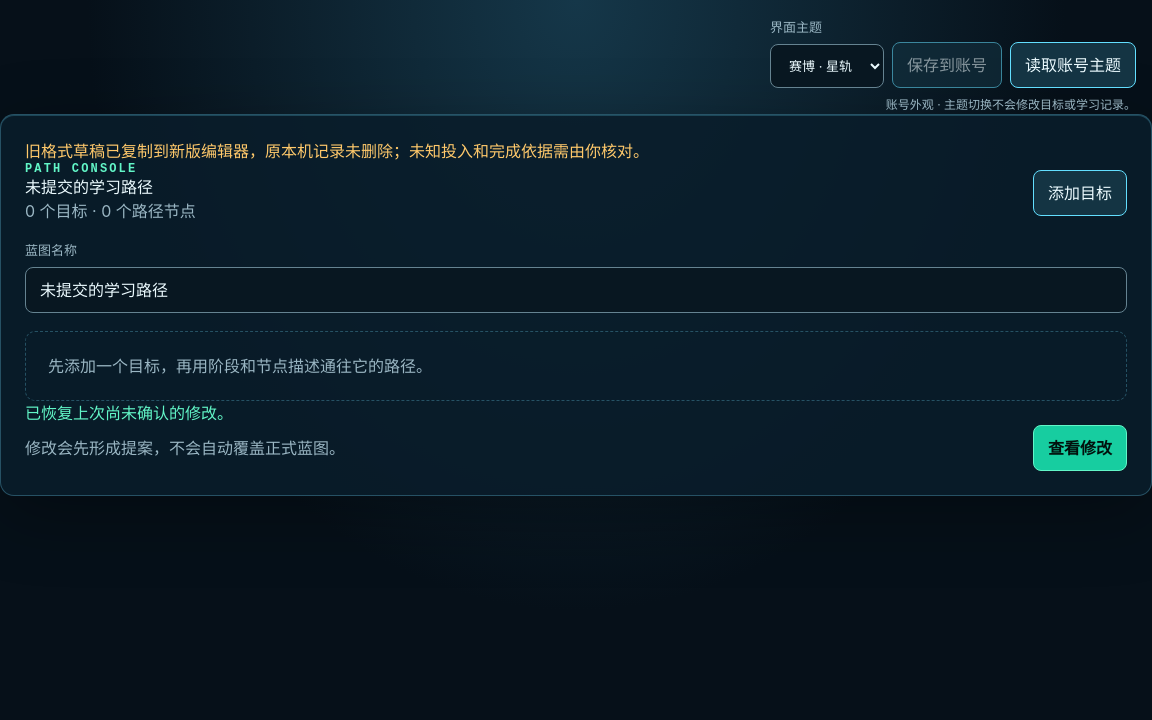
a failed save keeps the preview and editor recoverable without claiming synchronization
Select "山水 · 行旅" in the dropdown labelled "界面主题" at (827, 66), box [770,44,884,88]
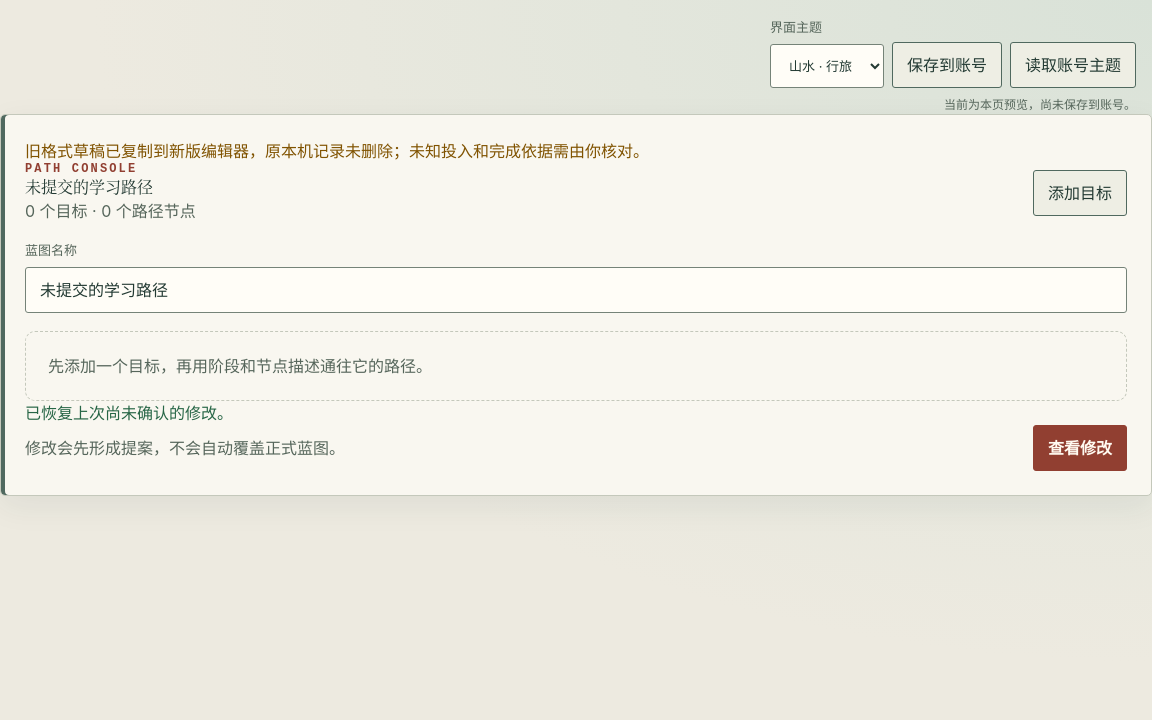
Click the button "保存到账号" at (947, 64), box [892,42,1002,88]
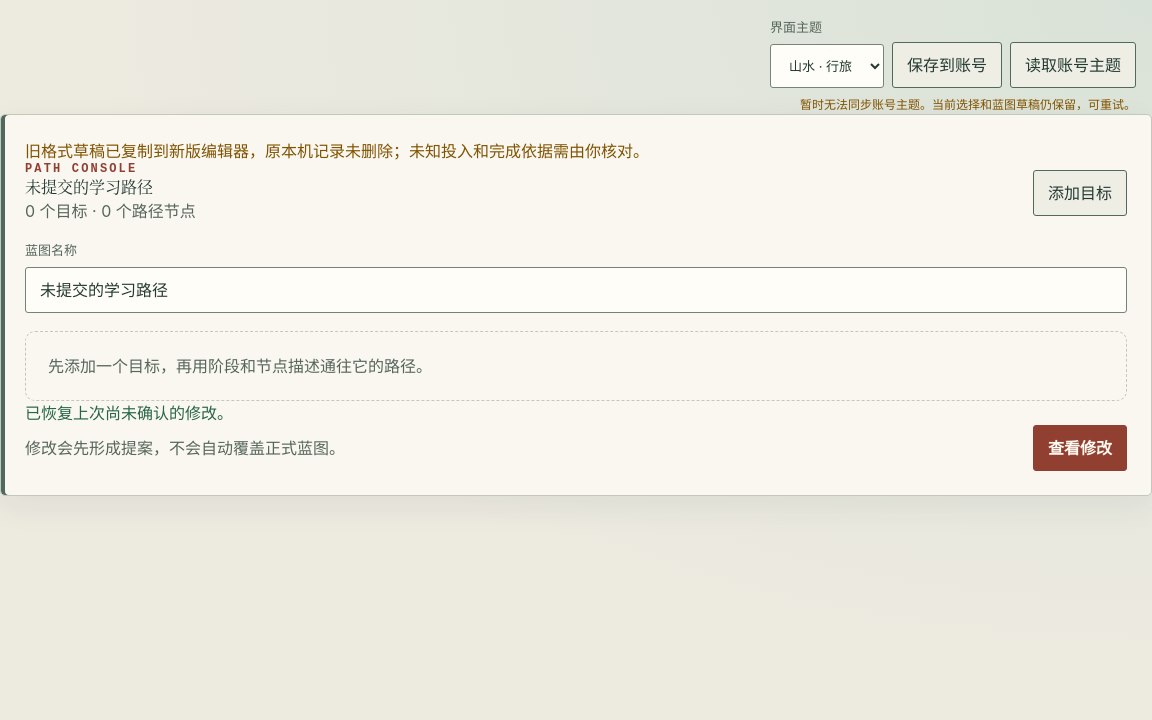
Check: the field labelled "蓝图名称" holds "未提交的学习路径", box [25,267,1127,313]
Check: the button "保存到账号" is enabled, box [892,42,1002,88]
Check: the text "暂时无法同步账号主题" is shown, box [800,96,1136,112]
